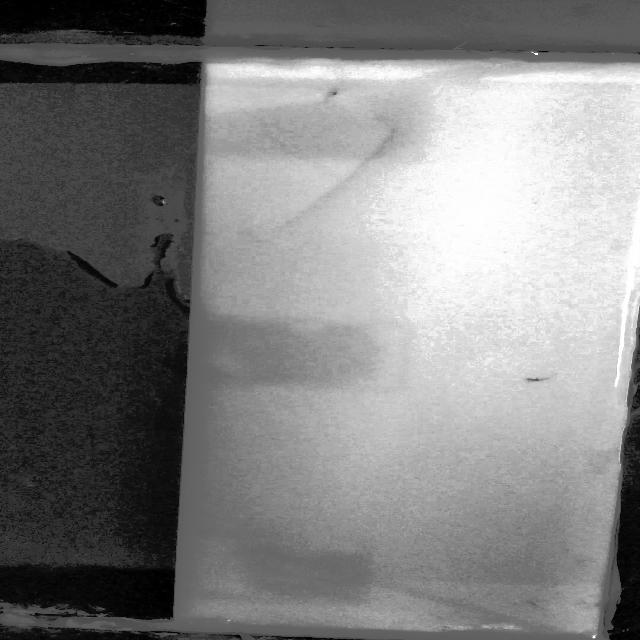shrimp: (512, 372, 554, 388), (319, 84, 344, 100), (524, 598, 542, 610)
